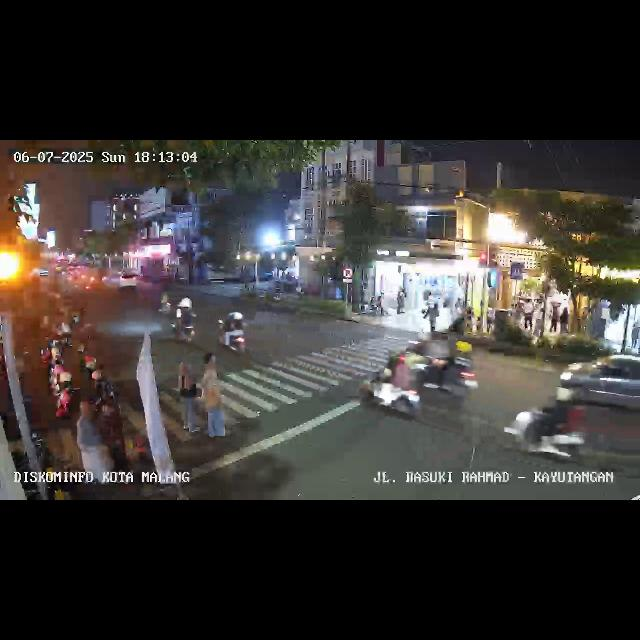car: (554, 354, 640, 422), (111, 272, 139, 290)
motorcycle: (508, 390, 588, 468), (358, 347, 428, 425), (416, 341, 480, 403), (218, 310, 248, 356), (172, 298, 198, 346), (156, 288, 172, 316)
person: (200, 370, 228, 438), (176, 362, 202, 433), (78, 398, 100, 480), (426, 301, 438, 333), (534, 302, 544, 340), (558, 305, 570, 335), (512, 302, 524, 332), (524, 300, 534, 334), (203, 354, 221, 371), (548, 304, 558, 334), (375, 290, 385, 316), (632, 322, 640, 350), (396, 288, 404, 314)
